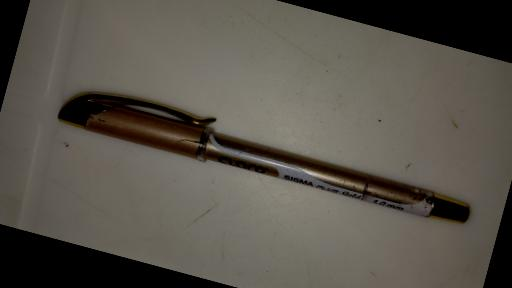pen: (54, 79, 476, 233)
